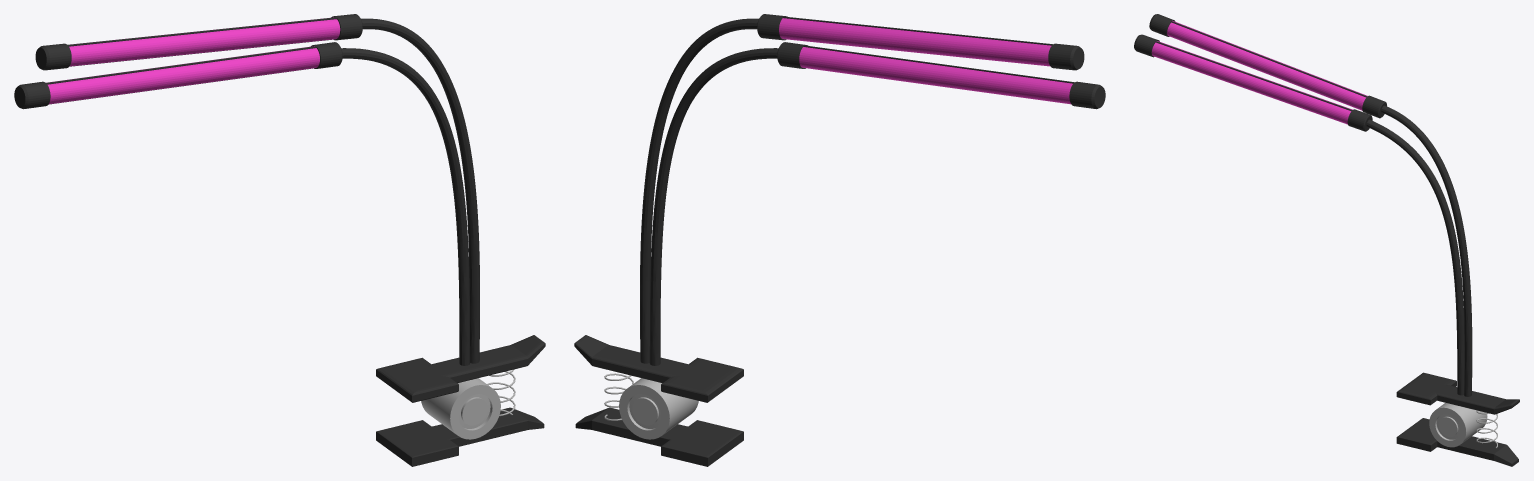
The model's file is UV_lamps.fbx.
The picture shows the model from 3 angles, left to right: view 1: azimuth 30°, elevation 25°; view 2: azimuth 150°, elevation 25°; view 3: azimuth 330°, elevation 25°; orthographic projection. The views are drawn at different scales.
Visible parts, largest first — view 1: Cylinder.009; view 2: Cylinder.009; view 3: Cylinder.009.
Part boxes in pixels (bbox=[...]): Cylinder.009: bbox=[14, 14, 545, 466]; Cylinder.009: bbox=[574, 14, 1105, 466]; Cylinder.009: bbox=[1134, 14, 1519, 466].
Bounding box in the file's own units: 100 × 91.68 × 11.99.
